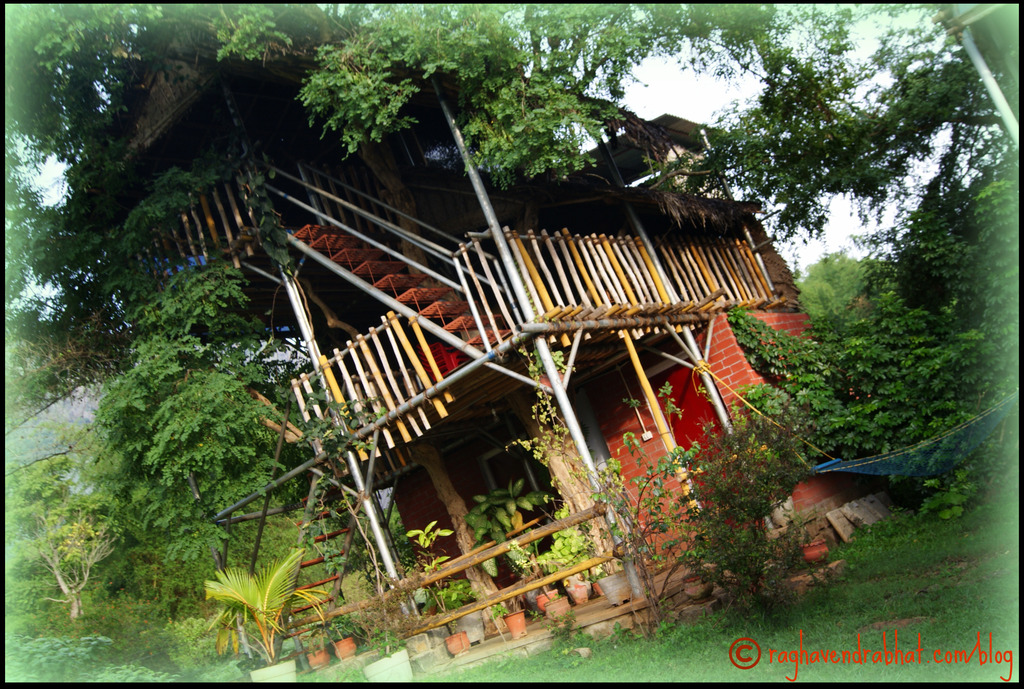Tree: (4, 3, 1018, 682)
